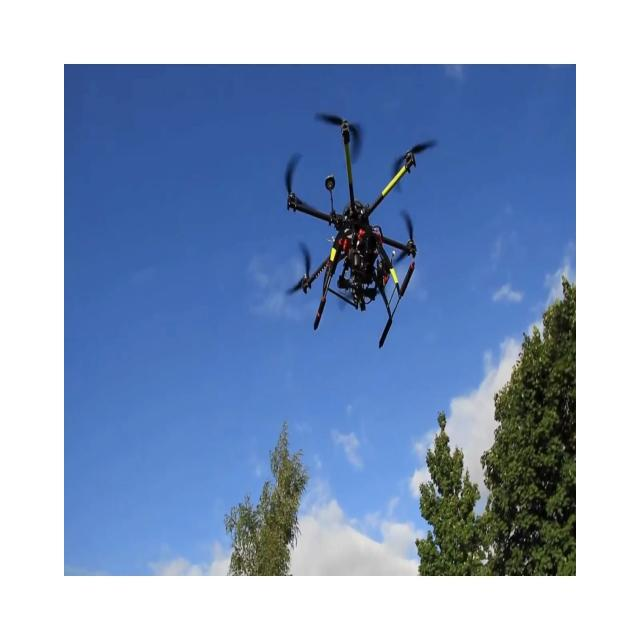drone: (284, 111, 437, 348)
